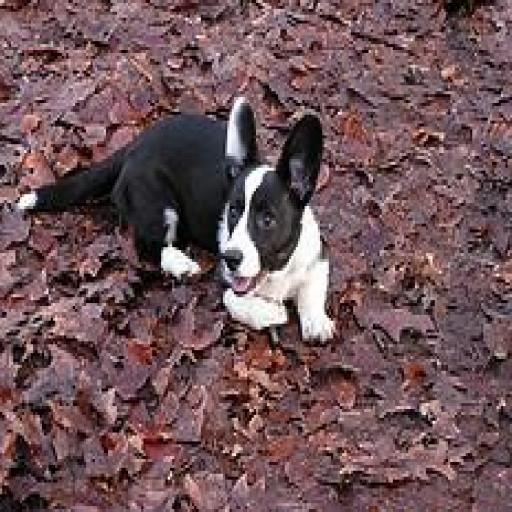dog_face: (212, 106, 309, 291)
